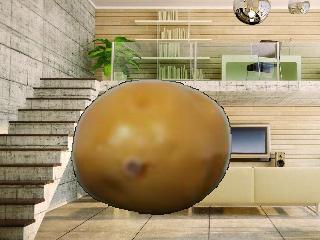potato: (66, 73, 236, 217)
